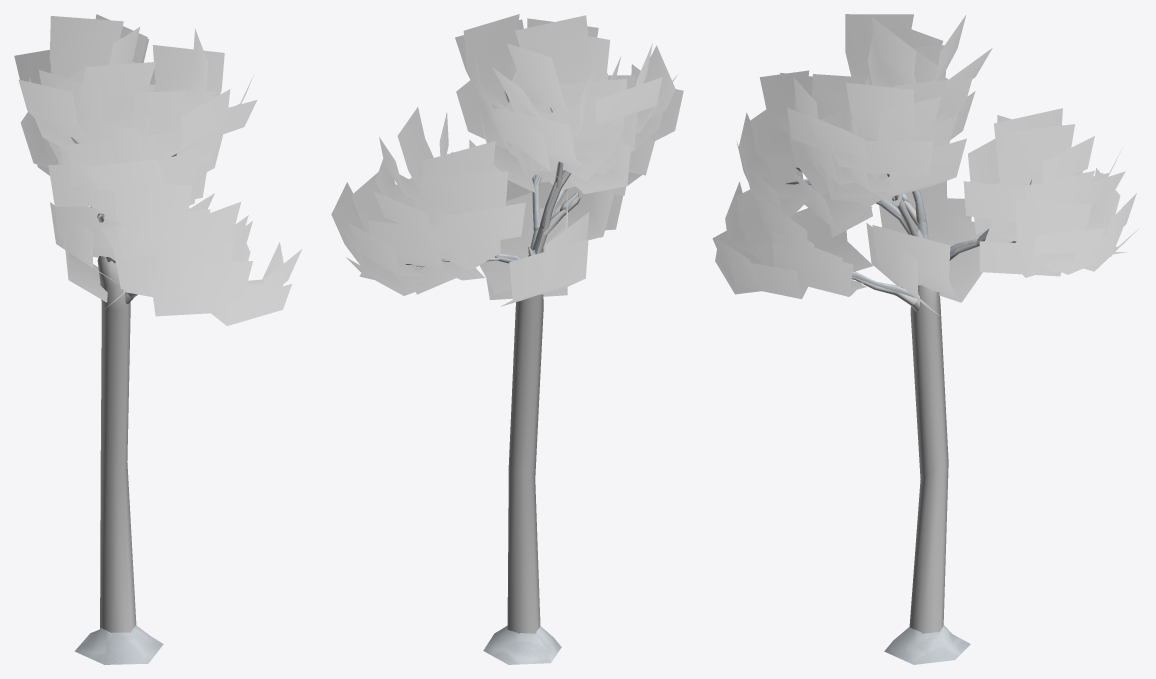
The model's file is Tree_Medium_1_Tall_Snow.fbx.
3 renders of one model, left to right at view 1: azimuth 30°, elevation 25°; view 2: azimuth 150°, elevation 25°; view 3: azimuth 270°, elevation 25°, orthographic. The views are drawn at different scales.
Parts seen in each view (by area): view 1: Tree_Medium_1_Snow_LOD0; view 2: Tree_Medium_1_Snow_LOD0; view 3: Tree_Medium_1_Snow_LOD0.
Part boxes in pixels (x1=…): Tree_Medium_1_Snow_LOD0: x1=14, y1=14, x2=302, y2=664; Tree_Medium_1_Snow_LOD0: x1=331, y1=14, x2=683, y2=664; Tree_Medium_1_Snow_LOD0: x1=712, y1=14, x2=1139, y2=664.
Size of what is drawn, in the model's own units: 823 by 2072 by 1308.
